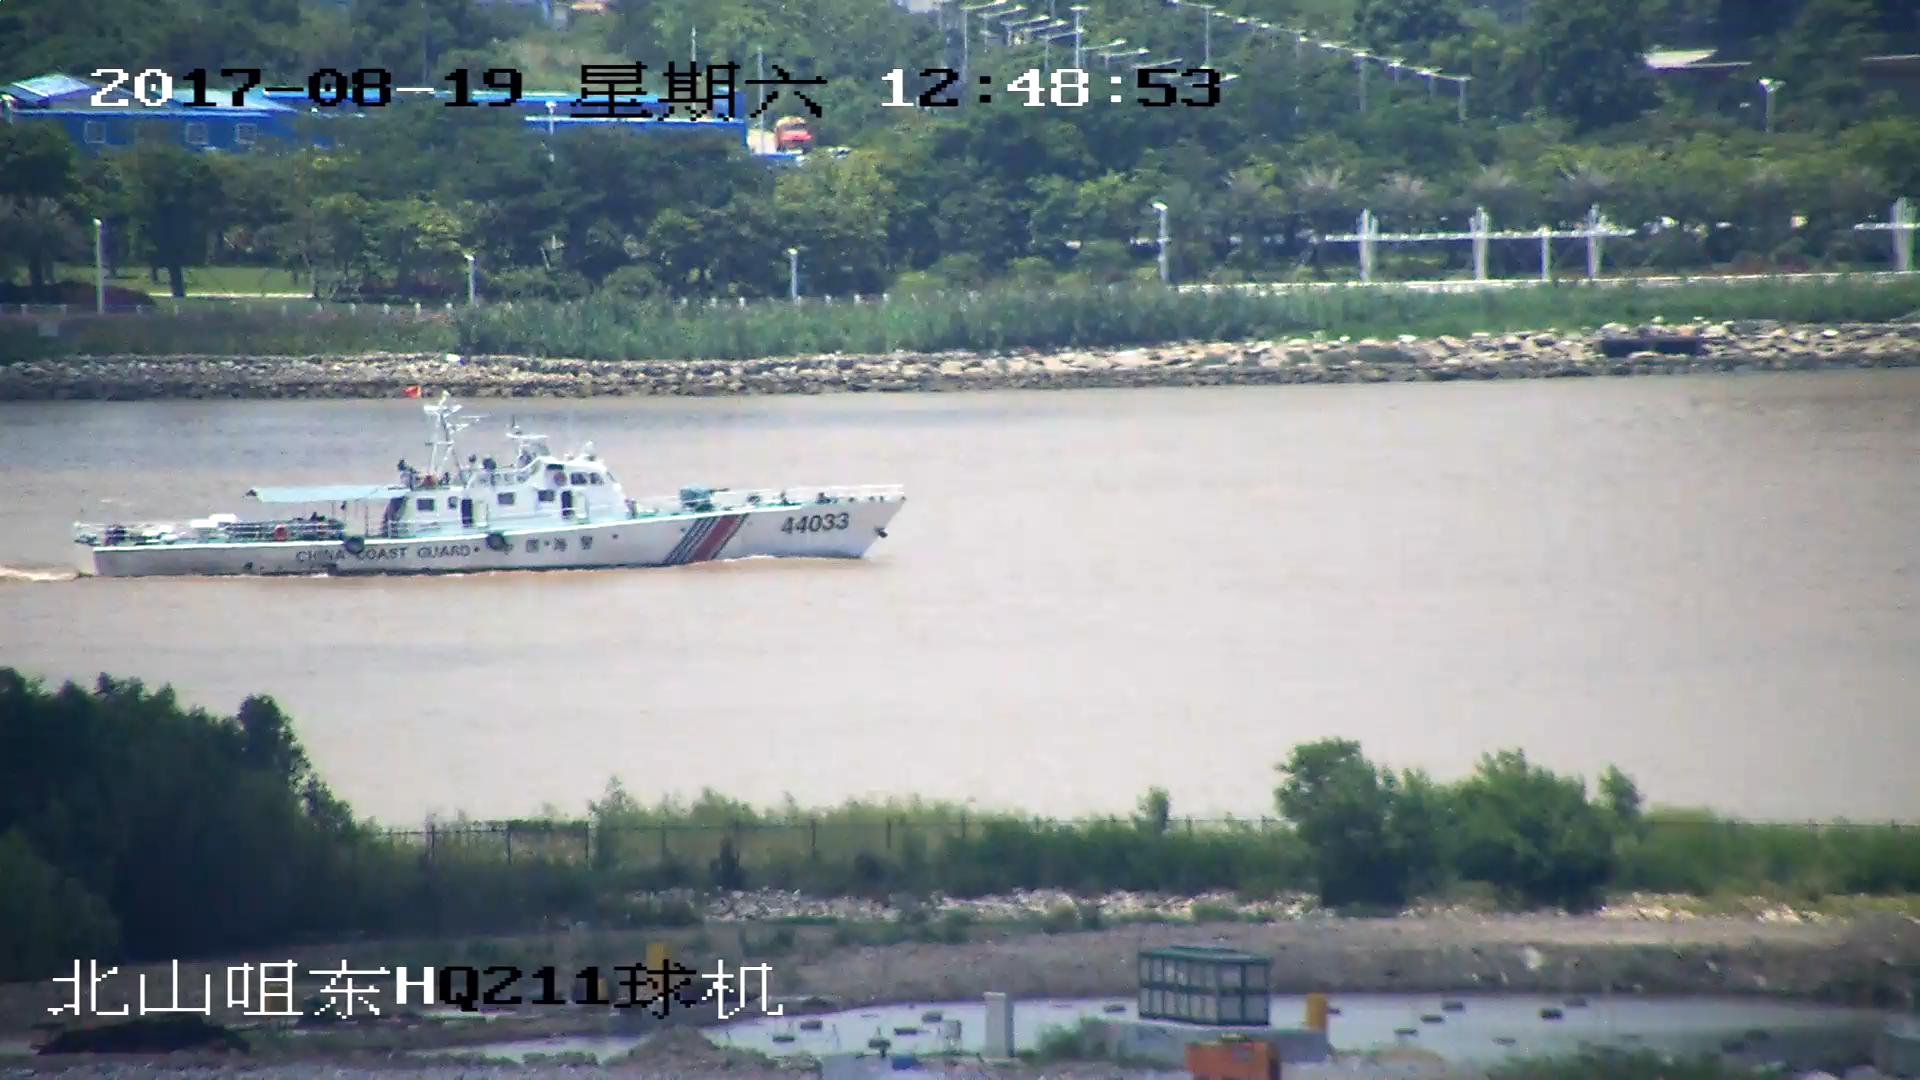passenger ship: (72, 386, 900, 574)
